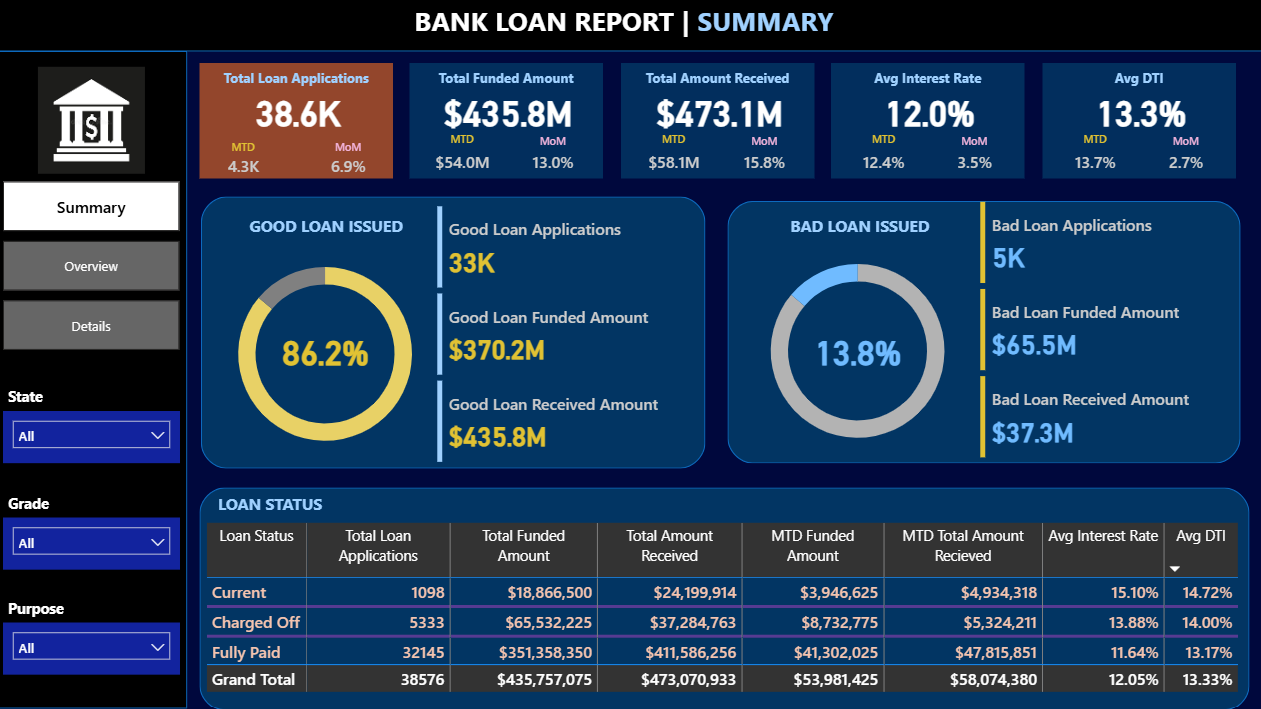

What the dashboard file says about the page in this screenshot:
{"tool":"powerbi","page":{"name":"Summary","canvas":[1280,720],"ordinal":0},"visuals":[{"type":"shape","box":[1054.9,66.4,195.3,116.6],"z":0,"group":"g5"},{"type":"shape","box":[204.4,66.6,195.3,116.6],"z":0,"group":"g1"},{"type":"shape","box":[417,66.6,195.3,116.6],"z":0,"group":"g2"},{"type":"shape","box":[629.7,66.6,195.3,116.6],"z":0,"group":"g3"},{"type":"shape","box":[842.3,66.6,195.3,116.6],"z":0,"group":"g4"},{"type":"shape","box":[737.4,205.9,517.9,265],"z":0},{"type":"shape","box":[0,0,1280,55],"z":1000},{"type":"card","fields":{"Values":["bank_loan_data.Avg DTI"]},"box":[1056.4,86.1,195.3,56],"z":1000,"group":"g5"},{"type":"card","fields":{"Values":["bank_loan_data.Total Loan Applications"]},"box":[205.9,86.3,195.3,56],"z":1000,"group":"g1"},{"type":"card","fields":{"Values":["bank_loan_data.Total Funded Amount"]},"box":[418.5,86.3,195.3,56],"z":1000,"group":"g2"},{"type":"card","fields":{"Values":["bank_loan_data.Total Amount Received"]},"box":[631.2,86.3,195.3,56],"z":1000,"group":"g3"},{"type":"card","fields":{"Values":["bank_loan_data.Avg Interest Rate"]},"box":[843.8,86.3,195.3,56],"z":1000,"group":"g4"},{"type":"shape","box":[0,54.5,192,664.7],"z":2000},{"type":"textbox","box":[1068.5,66.4,168.1,39.4],"z":2000,"group":"g5"},{"type":"textbox","box":[218,66.6,168.1,39.4],"z":2000,"group":"g1"},{"type":"textbox","box":[430.6,66.6,168.1,39.4],"z":2000,"group":"g2"},{"type":"textbox","box":[643.3,66.6,168.1,39.4],"z":2000,"group":"g3"},{"type":"textbox","box":[855.9,66.6,168.1,39.4],"z":2000,"group":"g4"},{"type":"card","title":"MTD","fields":{"Values":["bank_loan_data.MTD Avg DTI"]},"box":[1070.6,136,75.7,50],"z":3000,"group":"g5"},{"type":"card","title":"MTD","fields":{"Values":["bank_loan_data.MTD Funded Amount"]},"box":[432.7,136.2,75.7,50],"z":3000,"group":"g2"},{"type":"card","title":"MTD","fields":{"Values":["bank_loan_data.MTD Total Amount Recieved"]},"box":[645.4,136.2,75.7,50],"z":3000,"group":"g3"},{"type":"card","title":"MTD","fields":{"Values":["bank_loan_data.MTD Avg Int Rate"]},"box":[858,136.2,75.7,50],"z":3000,"group":"g4"},{"type":"card","title":"MTD","fields":{"Values":["bank_loan_data.MTD Loan Applications"]},"box":[218,143.8,60.6,39.4],"z":3000,"group":"g1"},{"type":"shape","box":[205.7,201.3,509.1,274.7],"z":3000},{"type":"card","title":"MoM","fields":{"Values":["bank_loan_data.MoM Avg DTI"]},"box":[1163.2,138.1,71.2,46.9],"z":4000,"group":"g5"},{"type":"card","title":"MoM","fields":{"Values":["bank_loan_data.MoM Total Funded Amount"]},"box":[525.3,138.3,71.2,46.9],"z":4000,"group":"g2"},{"type":"card","title":"MoM","fields":{"Values":["bank_loan_data.MoM Total Amount Recieved"]},"box":[738,138.3,71.2,46.9],"z":4000,"group":"g3"},{"type":"card","title":"MoM","fields":{"Values":["bank_loan_data.MoM Avg Int Rate"]},"box":[950.6,138.3,71.2,46.9],"z":4000,"group":"g4"},{"type":"card","title":"MoM","fields":{"Values":["bank_loan_data.MoM Loan Applications"]},"box":[322.5,143.8,63.6,39.4],"z":4000,"group":"g1"},{"type":"donutChart","fields":{"Category":["bank_loan_data.Good v Bad Loan"],"Y":["bank_loan_data.Total Loan Applications"]},"box":[205.6,245.1,249.9,229.3],"z":4000},{"type":"card","fields":{"Values":["bank_loan_data.Good Loan %"]},"box":[270.4,325.8,120.2,61.7],"z":5000},{"type":"textbox","box":[416.4,0,448.2,51.5],"z":6000},{"type":"group","id":"g1","title":"Group 1","box":[204.4,66.6,196.8,116.6],"z":7000},{"type":"group","id":"g2","title":"Group 1","box":[417,66.6,196.8,119.5],"z":8000},{"type":"group","id":"g3","title":"Group 1","box":[629.7,66.6,196.8,119.6],"z":9000},{"type":"group","id":"g4","title":"Group 1","box":[842.3,66.6,196.8,119.6],"z":10000},{"type":"group","id":"g5","title":"Group 1","box":[1054.9,66.4,197.7,120.2],"z":11000},{"type":"cardVisual","fields":{"Data":["bank_loan_data.Good Loan Applications","bank_loan_data.Good Loan Funded Amount","bank_loan_data.Good Loan Received Amount"]},"box":[439.7,205.6,261,268.9],"z":12000},{"type":"donutChart","fields":{"Category":["bank_loan_data.Good v Bad Loan"],"Y":["bank_loan_data.Total Loan Applications"]},"box":[743.3,242,249.9,229.3],"z":13000},{"type":"textbox","box":[231.5,215.7,201.3,38.8],"z":14000},{"type":"textbox","box":[773.4,215.1,194.5,39.5],"z":15000},{"type":"card","fields":{"Values":["bank_loan_data.Bad Loan %"]},"box":[808.2,325.8,120.2,61.7],"z":16000},{"type":"cardVisual","fields":{"Data":["bank_loan_data.Bad Loan Applications","bank_loan_data.Bad Loan Funded Amount","bank_loan_data.Bad Loan Received Amount"]},"box":[986.9,200.9,261,268.9],"z":17000},{"type":"shape","box":[204.2,494.7,1059.9,225.8],"z":18000},{"type":"tableEx","fields":{"Values":["bank_loan_data.loan_status","bank_loan_data.Total Loan Applications","bank_loan_data.Total Funded Amount","bank_loan_data.Total Amount Received","bank_loan_data.MTD Funded Amount","bank_loan_data.MTD Total Amount Recieved","bank_loan_data.Avg Interest Rate","bank_loan_data.Avg DTI"]},"box":[205.6,525.1,1056.5,183.5],"z":19000},{"type":"textbox","box":[218.6,494.7,166.8,38.8],"z":20000},{"type":"slicer","fields":{"Values":["bank_loan_data.address_state"]},"box":[6.1,417.9,178.7,53],"z":21000},{"type":"textbox","box":[6.1,387.6,53,30.3],"z":22000},{"type":"slicer","fields":{"Values":["bank_loan_data.grade"]},"box":[6.1,525.4,178.7,53],"z":23000},{"type":"textbox","box":[6.1,495.1,53,30.3],"z":24000},{"type":"slicer","fields":{"Values":["bank_loan_data.purpose"]},"box":[6.1,631.4,178.7,53],"z":25000},{"type":"textbox","box":[6.1,601.1,78.7,30.3],"z":26000},{"type":"image","box":[16.7,65.1,157.5,118.1],"z":27000},{"type":"pageNavigator","box":[6.1,186.2,178.7,171.1],"z":28000}]}

Visuals, with their boxes in screenshot pixels (x1, y1, x2, y2), scaled from the page's 1280x720 canvas onto the 1261x709 screenshot:
shape: <bbox>1039, 65, 1232, 180</bbox>
shape: <bbox>201, 66, 394, 180</bbox>
shape: <bbox>411, 66, 603, 180</bbox>
shape: <bbox>620, 66, 813, 180</bbox>
shape: <bbox>830, 66, 1022, 180</bbox>
shape: <bbox>726, 203, 1237, 464</bbox>
shape: <bbox>0, 0, 1260, 54</bbox>
card - bank_loan_data.Avg DTI: <bbox>1041, 85, 1233, 140</bbox>
card - bank_loan_data.Total Loan Applications: <bbox>203, 85, 395, 140</bbox>
card - bank_loan_data.Total Funded Amount: <bbox>412, 85, 605, 140</bbox>
card - bank_loan_data.Total Amount Received: <bbox>622, 85, 814, 140</bbox>
card - bank_loan_data.Avg Interest Rate: <bbox>831, 85, 1024, 140</bbox>
shape: <bbox>0, 54, 189, 708</bbox>
textbox: <bbox>1053, 65, 1218, 104</bbox>
textbox: <bbox>215, 66, 380, 104</bbox>
textbox: <bbox>424, 66, 590, 104</bbox>
textbox: <bbox>634, 66, 799, 104</bbox>
textbox: <bbox>843, 66, 1009, 104</bbox>
"MTD" card: <bbox>1055, 134, 1129, 183</bbox>
"MTD" card: <bbox>426, 134, 501, 183</bbox>
"MTD" card: <bbox>636, 134, 710, 183</bbox>
"MTD" card: <bbox>845, 134, 920, 183</bbox>
"MTD" card: <bbox>215, 142, 274, 180</bbox>
shape: <bbox>203, 198, 704, 469</bbox>
"MoM" card: <bbox>1146, 136, 1216, 182</bbox>
"MoM" card: <bbox>518, 136, 588, 182</bbox>
"MoM" card: <bbox>727, 136, 797, 182</bbox>
"MoM" card: <bbox>936, 136, 1007, 182</bbox>
"MoM" card: <bbox>318, 142, 380, 180</bbox>
donutChart - bank_loan_data.Good v Bad Loan x bank_loan_data.Total Loan Applications: <bbox>203, 241, 449, 467</bbox>
card - bank_loan_data.Good Loan %: <bbox>266, 321, 385, 382</bbox>
textbox: <bbox>410, 0, 852, 51</bbox>
"Group 1" group: <bbox>201, 66, 395, 180</bbox>
"Group 1" group: <bbox>411, 66, 605, 183</bbox>
"Group 1" group: <bbox>620, 66, 814, 183</bbox>
"Group 1" group: <bbox>830, 66, 1024, 183</bbox>
"Group 1" group: <bbox>1039, 65, 1234, 184</bbox>
cardVisual - bank_loan_data.Good Loan Applications x bank_loan_data.Good Loan Funded Amount: <bbox>433, 202, 690, 467</bbox>
donutChart - bank_loan_data.Good v Bad Loan x bank_loan_data.Total Loan Applications: <bbox>732, 238, 978, 464</bbox>
textbox: <bbox>228, 212, 426, 251</bbox>
textbox: <bbox>762, 212, 954, 251</bbox>
card - bank_loan_data.Bad Loan %: <bbox>796, 321, 915, 382</bbox>
cardVisual - bank_loan_data.Bad Loan Applications x bank_loan_data.Bad Loan Funded Amount: <bbox>972, 198, 1229, 463</bbox>
shape: <bbox>201, 487, 1245, 708</bbox>
tableEx - bank_loan_data.loan_status x bank_loan_data.Total Loan Applications: <bbox>203, 517, 1243, 698</bbox>
textbox: <bbox>215, 487, 380, 525</bbox>
slicer - bank_loan_data.address_state: <bbox>6, 412, 182, 464</bbox>
textbox: <bbox>6, 382, 58, 412</bbox>
slicer - bank_loan_data.grade: <bbox>6, 517, 182, 570</bbox>
textbox: <bbox>6, 488, 58, 517</bbox>
slicer - bank_loan_data.purpose: <bbox>6, 622, 182, 674</bbox>
textbox: <bbox>6, 592, 84, 622</bbox>
image: <bbox>16, 64, 172, 180</bbox>
pageNavigator: <bbox>6, 183, 182, 352</bbox>
